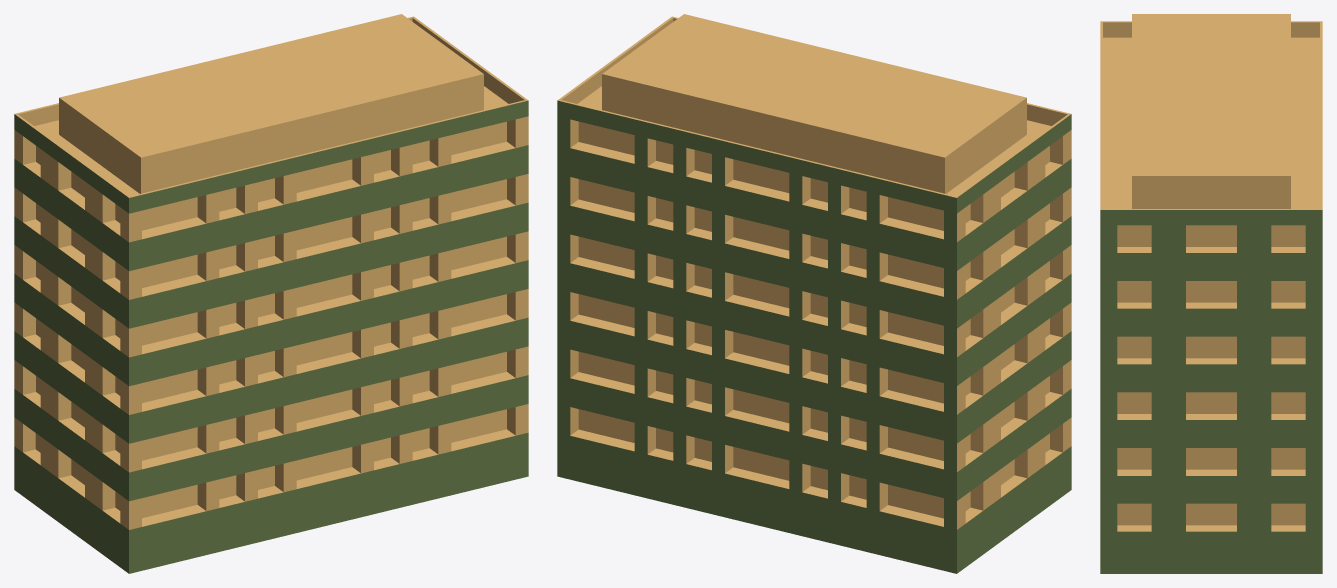
Rendered from apartment 1.fbx.
3 renders of one model, left to right at view 1: azimuth 30°, elevation 25°; view 2: azimuth 150°, elevation 25°; view 3: azimuth 270°, elevation 25°, orthographic. The views are drawn at different scales.
Visible parts, largest first — view 1: Cube; view 2: Cube; view 3: Cube.
Part boxes in pixels (bbox=[...]): Cube: bbox=[14, 14, 528, 573]; Cube: bbox=[557, 14, 1071, 573]; Cube: bbox=[1100, 14, 1322, 573].
Size of the model in its own units: 795 by 756 by 396.
